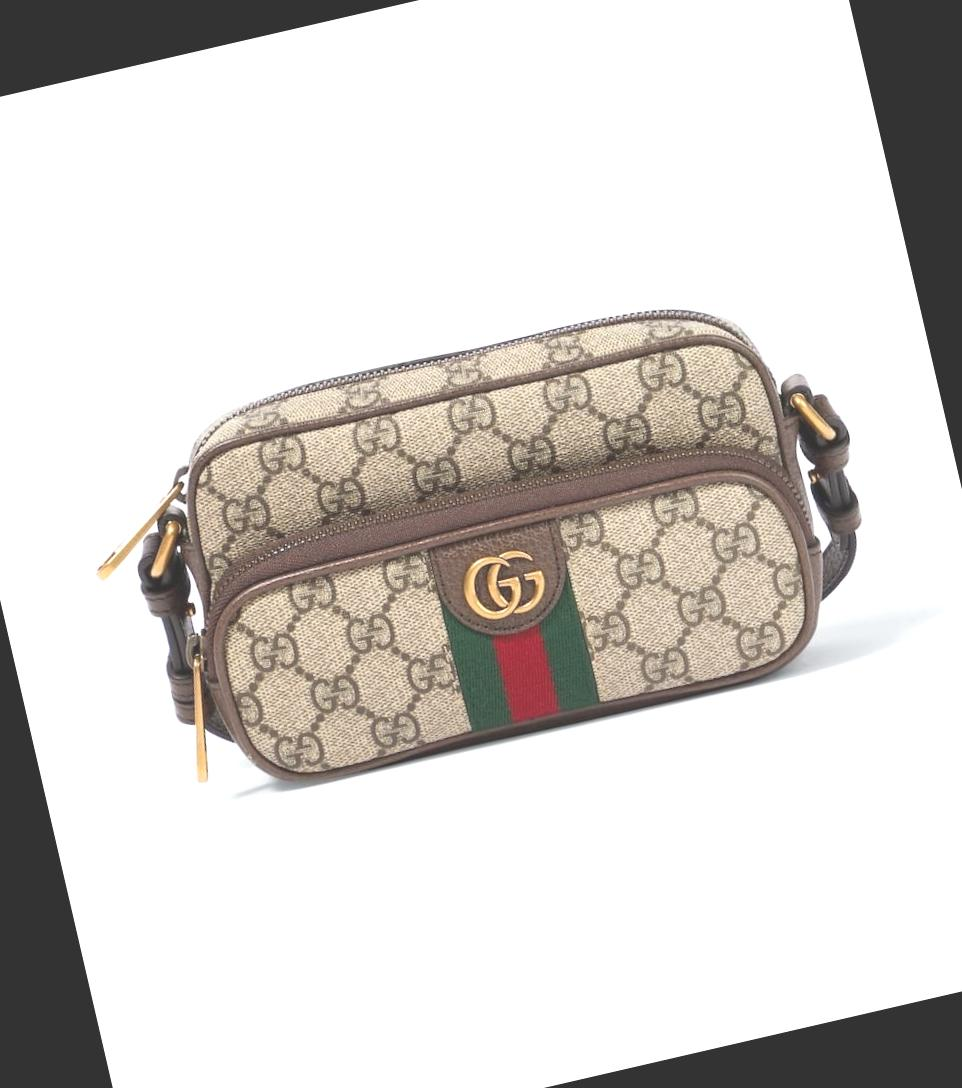GUCCI: (456, 545, 552, 626)
